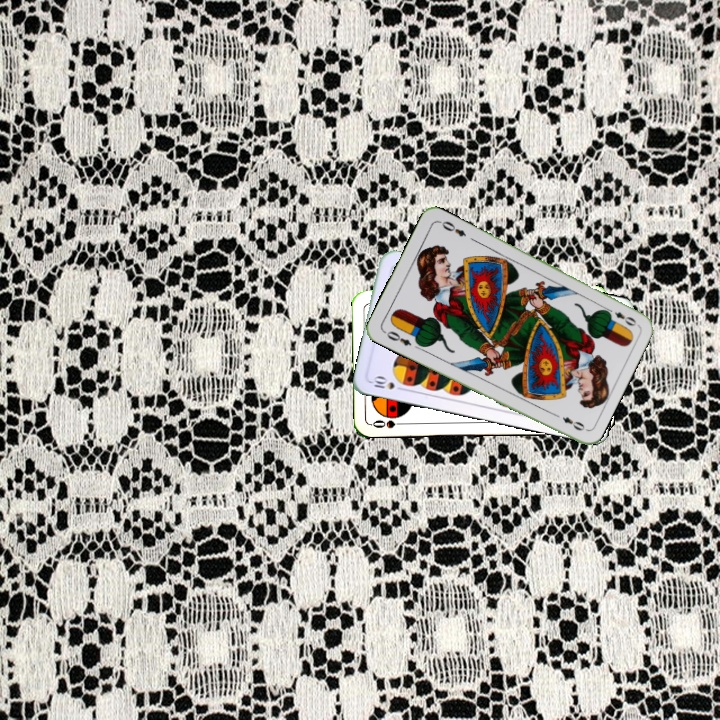EO: (601, 304, 639, 329), (380, 327, 414, 348)
S10: (367, 372, 407, 393)
SO: (369, 416, 409, 431)
